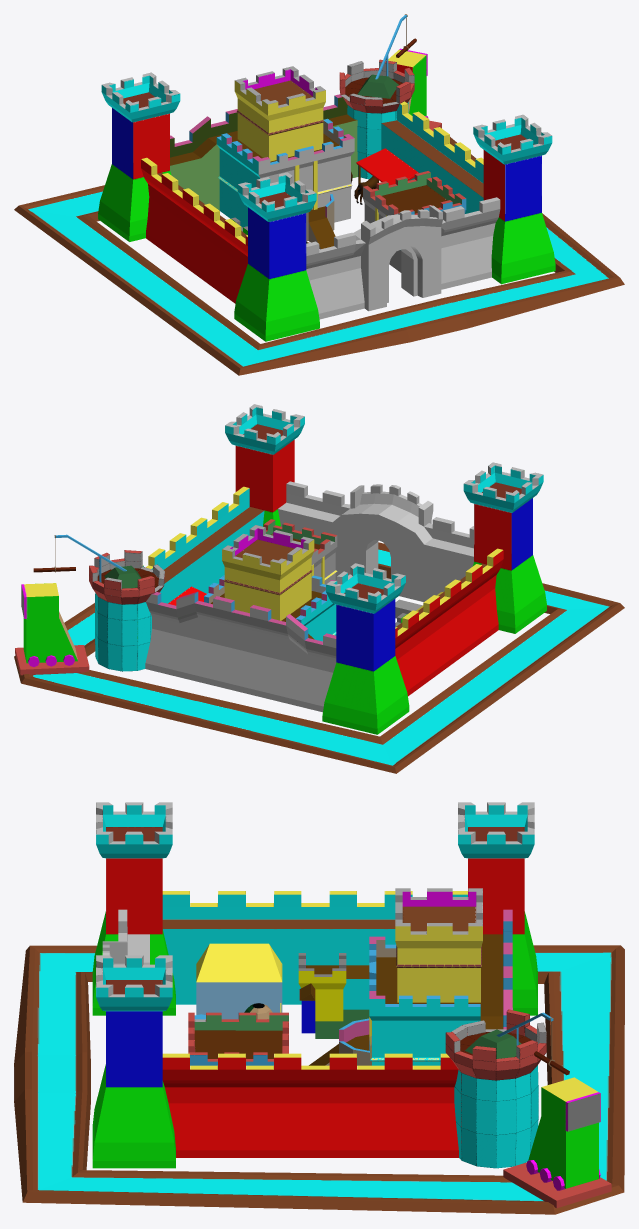
File: castle old.fbx
3 renders of one model, top to bottom at view 1: azimuth 30°, elevation 25°; view 2: azimuth 150°, elevation 25°; view 3: azimuth 270°, elevation 25°, orthographic. The views are drawn at different scales.
Visible parts, largest first — view 1: Castle, Stronghold, Hospital, Casarm, Factory, Stable; view 2: Castle, Stronghold, Hospital, Factory, Casarm; view 3: Castle, Stronghold, Factory, Hospital, Smithy, Training_ground, Casarm.
Part boxes in pixels (x1,y1,x2,y2): Castle: (98, 59, 555, 341); Stronghold: (14, 137, 624, 375); Hospital: (234, 66, 325, 161); Casarm: (363, 171, 466, 272); Factory: (357, 14, 441, 131); Stable: (351, 148, 418, 204); Castle: (89, 404, 546, 734); Stronghold: (14, 542, 624, 773); Hospital: (222, 525, 314, 620); Factory: (15, 534, 141, 675); Casarm: (232, 519, 337, 584); Castle: (92, 802, 546, 1168); Stronghold: (14, 945, 624, 1214); Factory: (465, 1012, 611, 1208); Hospital: (395, 888, 482, 1002); Smithy: (194, 943, 282, 1019); Training_ground: (298, 953, 369, 1038); Casarm: (188, 1012, 288, 1065).
Size of the model in its own units: 44.63 by 15.02 by 43.9.
